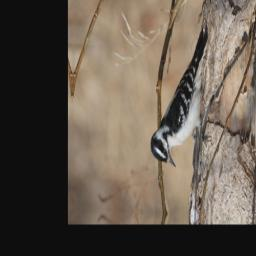Woodpecker: (149, 18, 216, 170)
